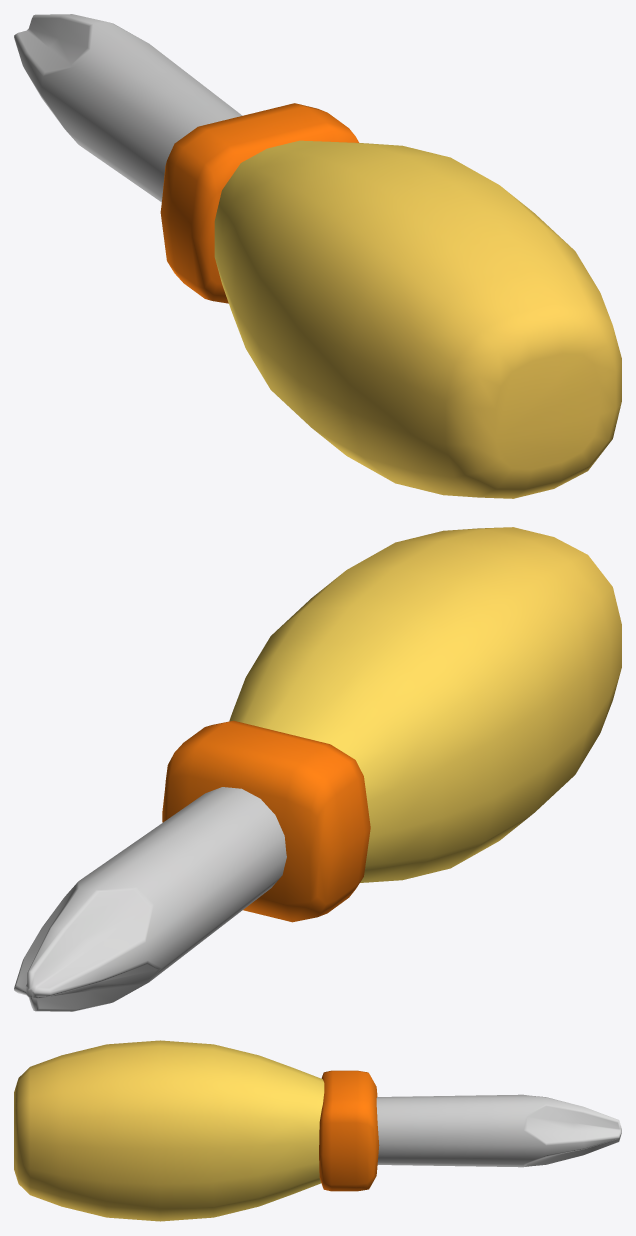
File: screwdriver_phillips.fbx
3 renders of one model, top to bottom at view 1: azimuth 30°, elevation 25°; view 2: azimuth 150°, elevation 25°; view 3: azimuth 270°, elevation 25°, orthographic. The views are drawn at different scales.
Visible parts, largest first — view 1: screwdriver_phillips; view 2: screwdriver_phillips; view 3: screwdriver_phillips.
Boxes of the visible parts, x1,y1,x2,y2 form: screwdriver_phillips: [14, 14, 621, 498]; screwdriver_phillips: [14, 527, 621, 1011]; screwdriver_phillips: [14, 1040, 621, 1221].
Size of the model in its own units: 0.3074 by 1.11 by 0.3074.
